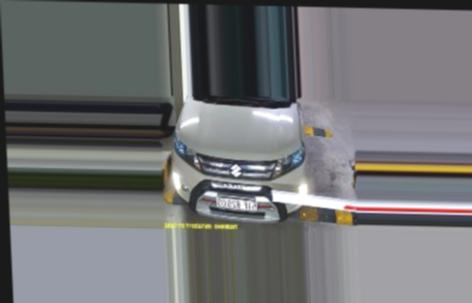License_Plate: (217, 194, 258, 210)
